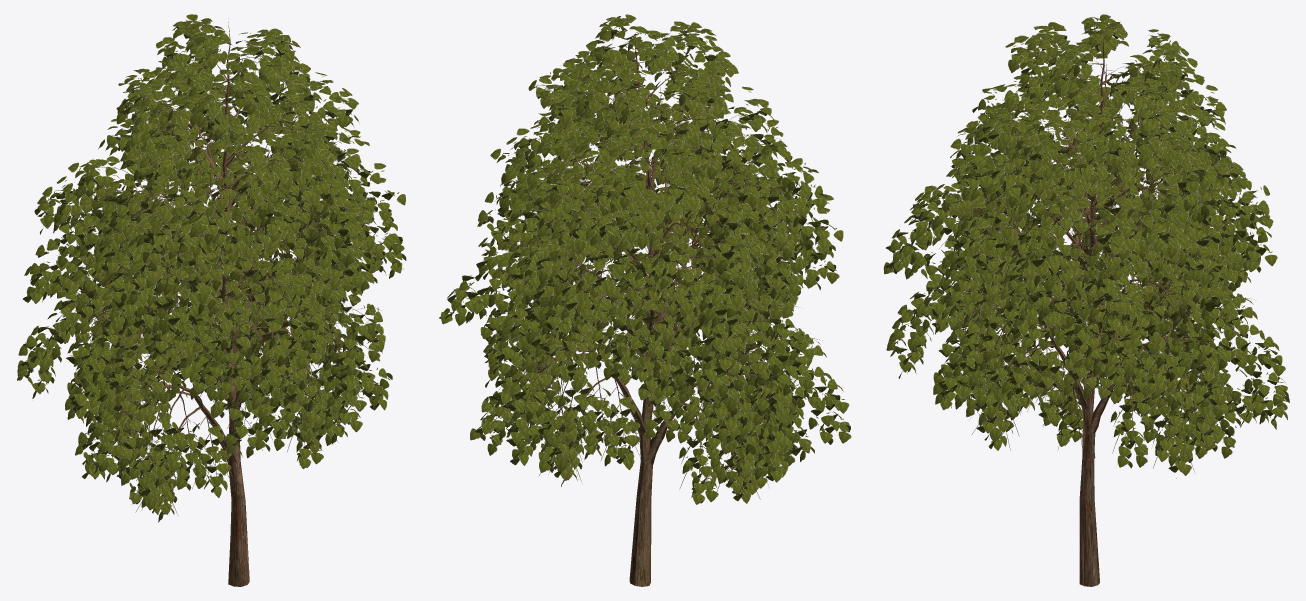
The picture shows the model from 3 angles, left to right: view 1: azimuth 30°, elevation 25°; view 2: azimuth 150°, elevation 25°; view 3: azimuth 270°, elevation 25°; orthographic projection.
Parts seen in each view (by area): view 1: sub01, sub02; view 2: sub01, sub02; view 3: sub01, sub02.
Part boxes in pixels (box(x1,y1,x2,y2)): sub01: box(34, 14, 406, 586); sub02: box(17, 129, 392, 522); sub01: box(477, 14, 843, 586); sub02: box(439, 123, 851, 504); sub01: box(911, 14, 1277, 586); sub02: box(883, 119, 1289, 475).
Size of the model in its own units: 507 by 792 by 522.
5 materials, 5 textured.
